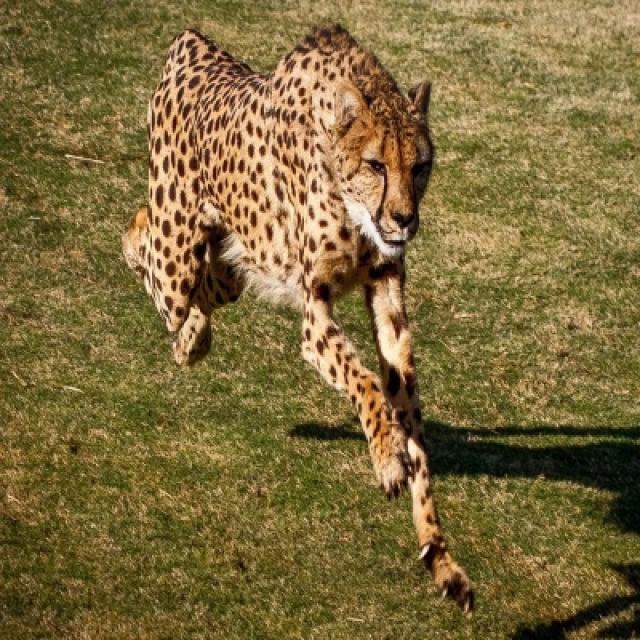Cheetah: (122, 26, 470, 610)
